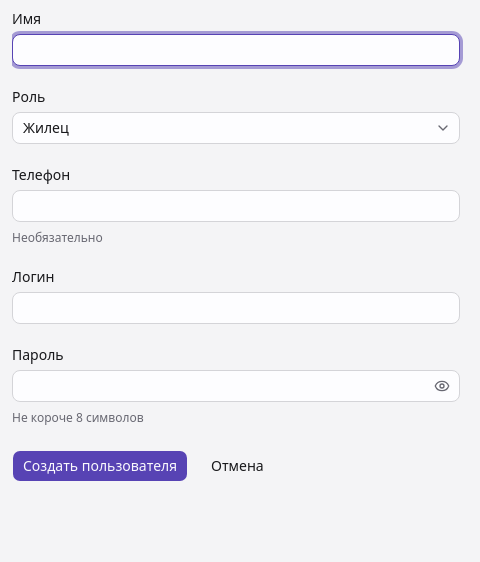
Scenario: shows a taken login from the server
Type "Ольга" into the field labelled "Имя" at coordinates (236, 50), box [12,34,460,66]
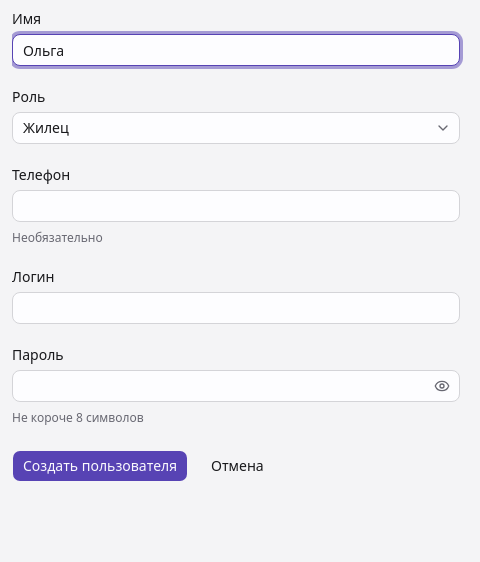
Type "olga" into the field labelled "Логин" at coordinates (236, 308), box [12,292,460,324]
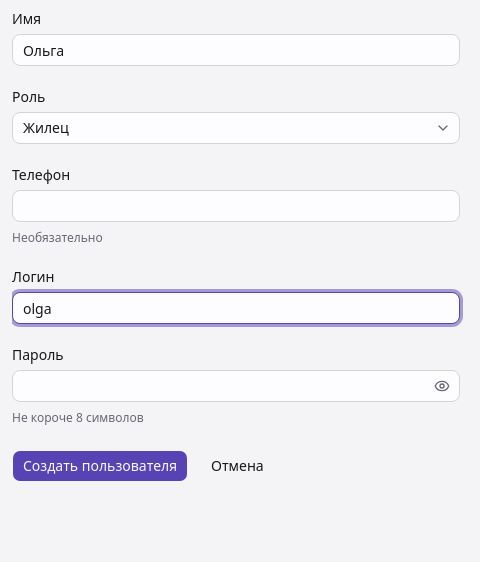
Type "secret123" into the password field labelled "Пароль" at coordinates (236, 386), box [12,370,460,402]
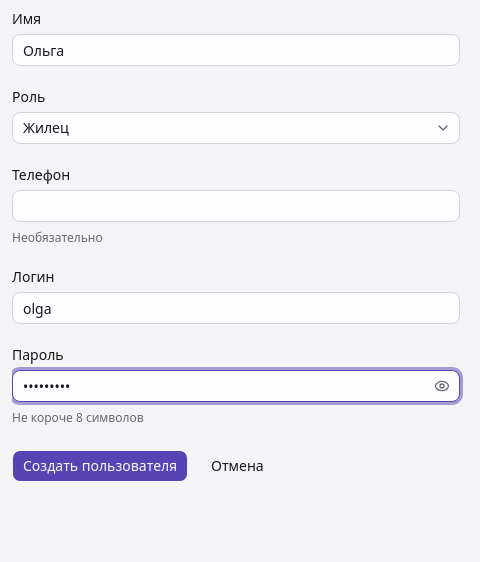
Click the button "Создать пользователя" at coordinates (100, 466), box [12,450,188,482]
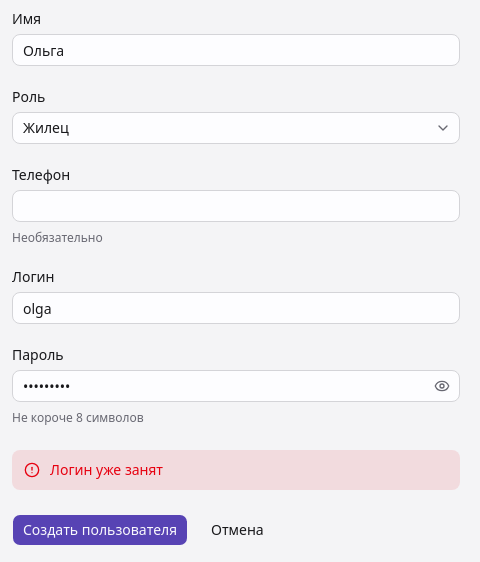
Expected: the message reads "Логин уже занят", [50,460,163,479]
